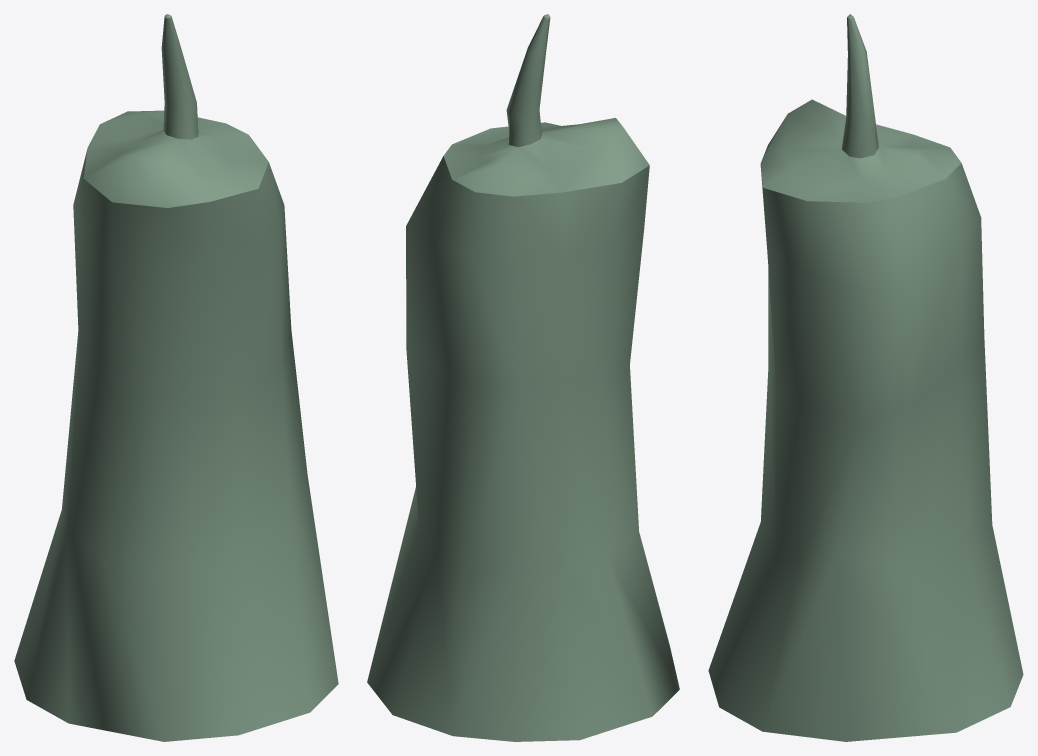
File: SM_Pirate_Candle_2.fbx
The picture shows the model from 3 angles, left to right: view 1: azimuth 30°, elevation 25°; view 2: azimuth 150°, elevation 25°; view 3: azimuth 270°, elevation 25°; orthographic projection.
Parts seen in each view (by area): view 1: SM_Pirate_Candle_2; view 2: SM_Pirate_Candle_2; view 3: SM_Pirate_Candle_2.
Boxes of the visible parts, box(x1,y1,x2,y2) form: SM_Pirate_Candle_2: box(14, 14, 338, 741); SM_Pirate_Candle_2: box(367, 14, 679, 741); SM_Pirate_Candle_2: box(708, 14, 1023, 741).
Size of the model in its own units: 6.72 by 15.79 by 6.87.
